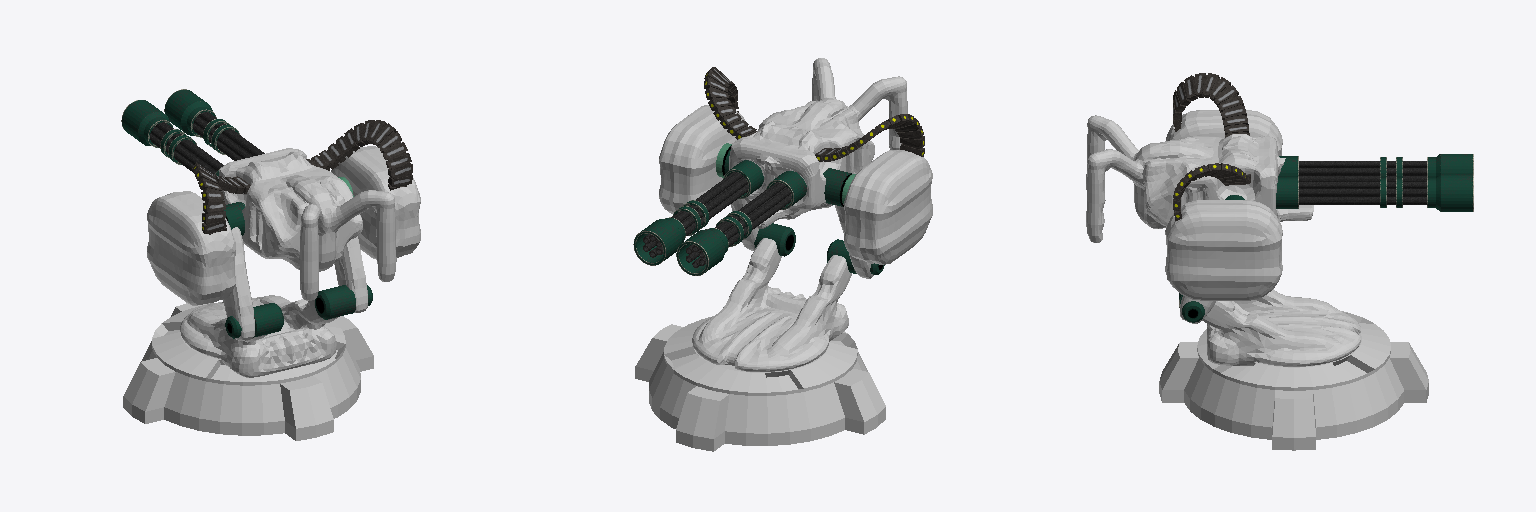
The picture shows the model from 3 angles: view 1: azimuth 30°, elevation 25°; view 2: azimuth 150°, elevation 25°; view 3: azimuth 270°, elevation 25°; orthographic projection.
Parts seen in each view (by area): view 1: sentry; view 2: sentry; view 3: sentry.
Boxes of the visible parts, <box> form: sentry: <box>121,89,420,440</box>; sentry: <box>633,58,932,451</box>; sentry: <box>1086,73,1473,450</box>.
Bounding box in the file's own units: 0.8723 × 0.9825 × 1.25.
Materials: 3 (1 with a texture image).